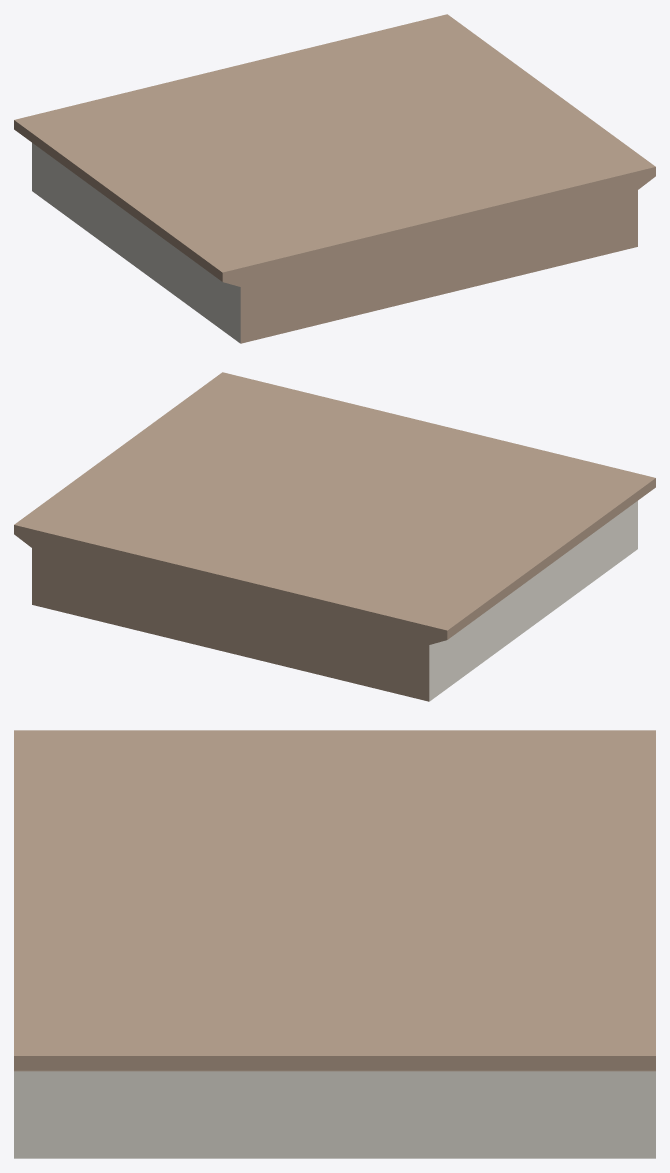
The model's file is Structure_Balcony_2_Edges_Opposite.fbx.
The picture shows the model from 3 angles, top to bottom: view 1: azimuth 30°, elevation 25°; view 2: azimuth 150°, elevation 25°; view 3: azimuth 270°, elevation 25°; orthographic projection. The views are drawn at different scales.
Visible parts, largest first — view 1: object1.057; view 2: object1.057; view 3: object1.057.
Boxes of the visible parts, x1,y1,x2,y2 form: object1.057: [14, 14, 655, 343]; object1.057: [14, 372, 655, 701]; object1.057: [14, 730, 655, 1158].
Bounding box in the file's own units: 120 × 20 × 100.
